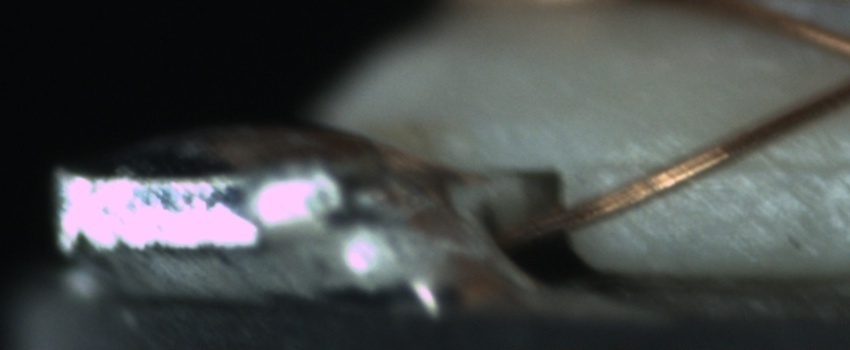DL: (621, 131, 850, 200)
